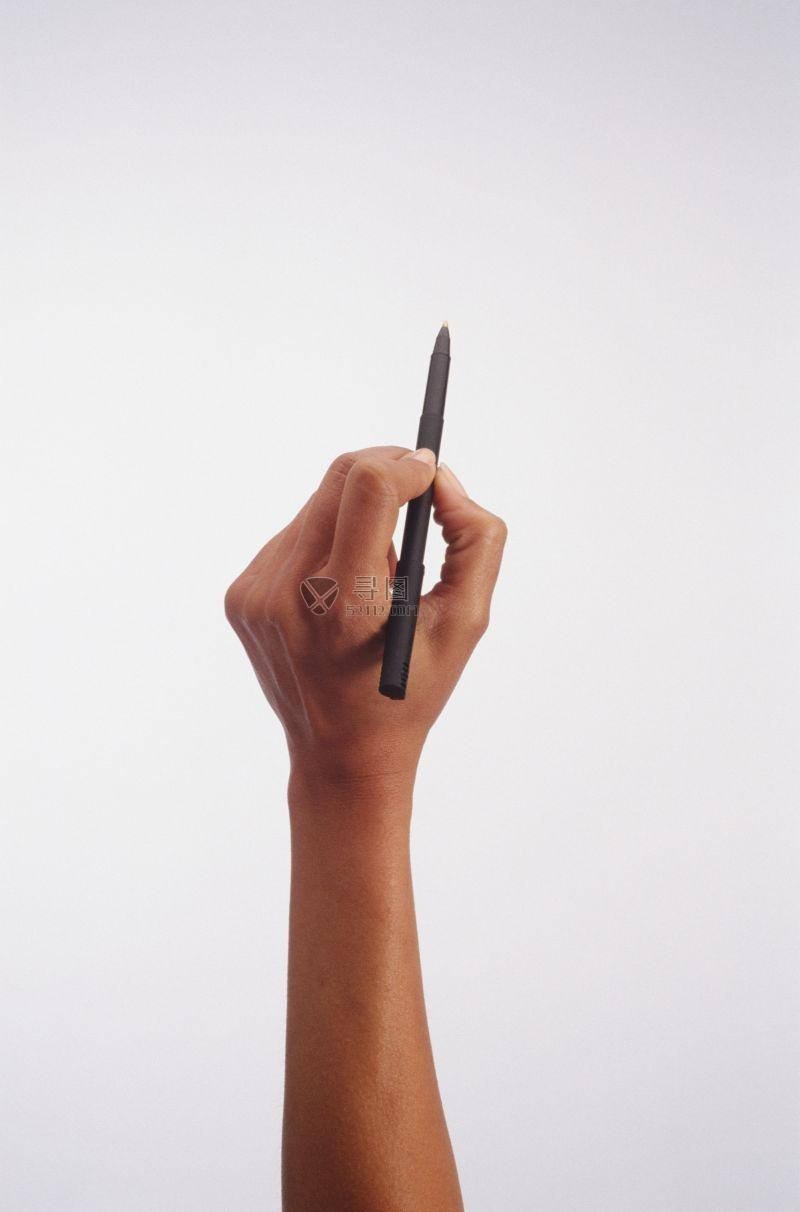no-phone: (213, 318, 512, 810)
